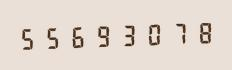eight: (192, 17, 216, 46)
five: (17, 23, 41, 52), (42, 22, 66, 51)
nine: (92, 20, 116, 49)
seven: (167, 18, 191, 47)
six: (67, 21, 91, 50)
three: (117, 19, 141, 49)
zero: (142, 19, 166, 48)
